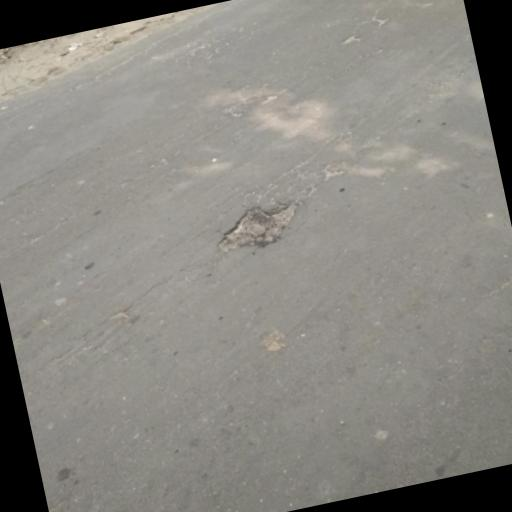pothole: (206, 194, 307, 256)
